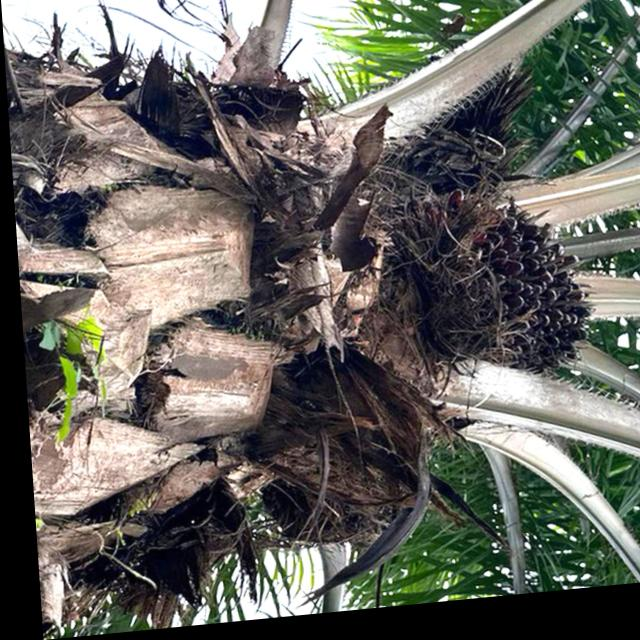almost: (360, 184, 592, 401)
